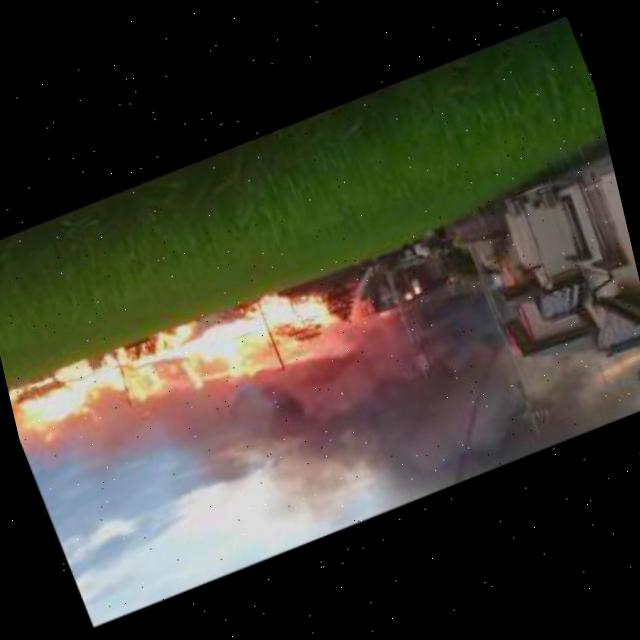fire: (0, 258, 349, 462)
